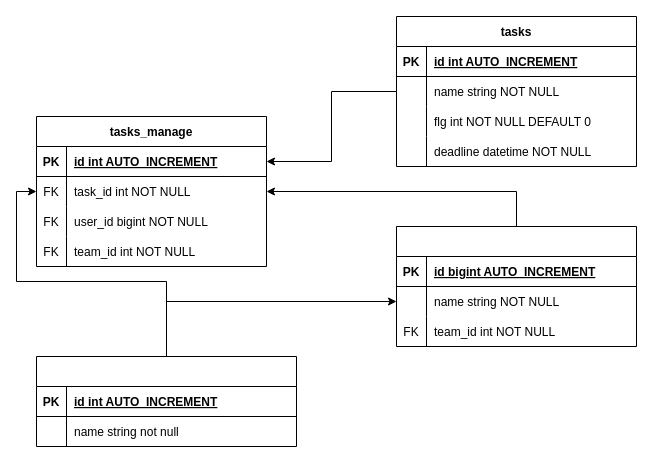
This 653x463 diagram has some shape labels left out. The shapes that lost their labels are listed below. From the top down, each one's box as (x1, y1, x2, y2) in pixels, then its label:
(396, 226, 636, 346): users
(36, 356, 296, 446): teams
